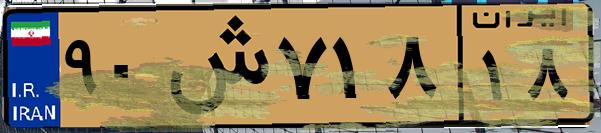0: (110, 28, 158, 98)
1: (330, 28, 385, 110), (475, 38, 525, 113)
7: (270, 28, 330, 110)
8: (385, 28, 445, 110), (525, 38, 570, 115)
9: (57, 26, 110, 100)
ش: (158, 12, 270, 120)
